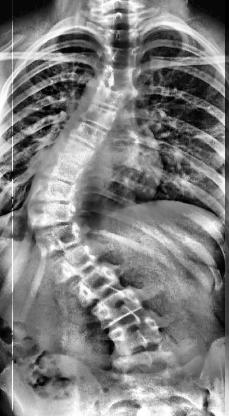Vertebrae: (91, 286, 143, 332), (110, 316, 172, 354), (76, 264, 124, 304), (115, 348, 177, 378), (35, 219, 85, 255), (50, 245, 96, 277), (66, 116, 108, 150), (30, 178, 84, 204), (43, 153, 87, 183), (74, 101, 119, 130), (29, 203, 81, 228), (53, 136, 99, 164), (87, 87, 131, 110), (100, 48, 140, 72), (102, 28, 144, 50), (98, 68, 136, 90)
